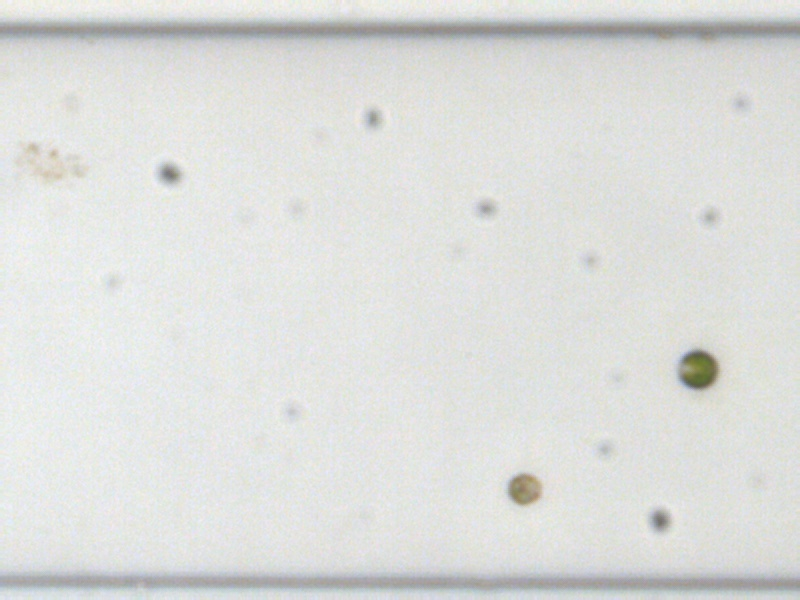Effrenium: (505, 471, 545, 506)
Platymonas: (675, 347, 721, 388)
